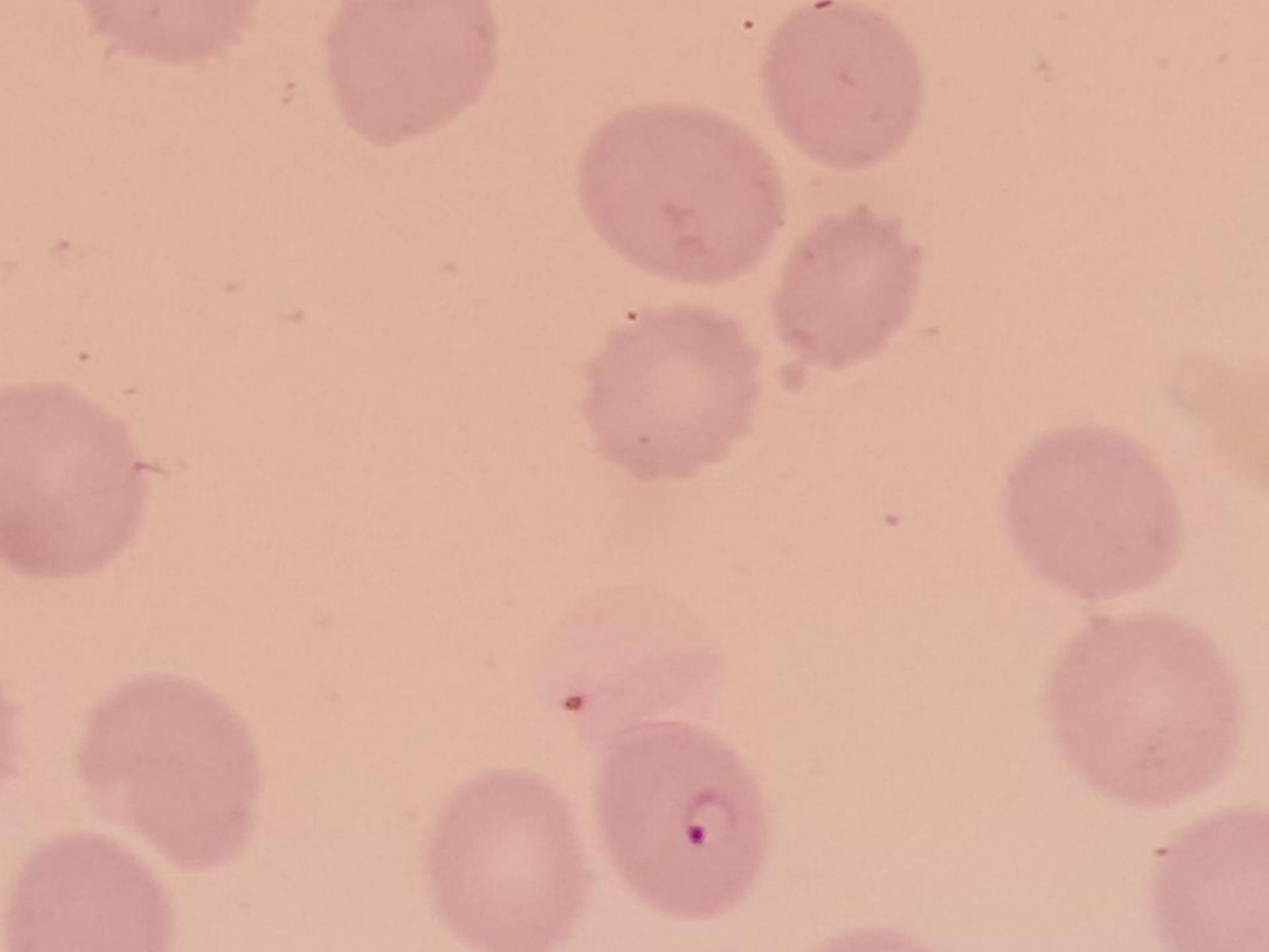Infected: (595, 727, 768, 921)
Uninfected: (1049, 606, 1243, 817), (573, 109, 776, 282), (77, 679, 251, 876), (416, 769, 592, 952), (1009, 430, 1190, 604), (577, 316, 758, 479), (756, 2, 925, 168), (317, 0, 501, 150), (0, 382, 141, 576), (767, 206, 922, 376), (0, 829, 162, 952)
